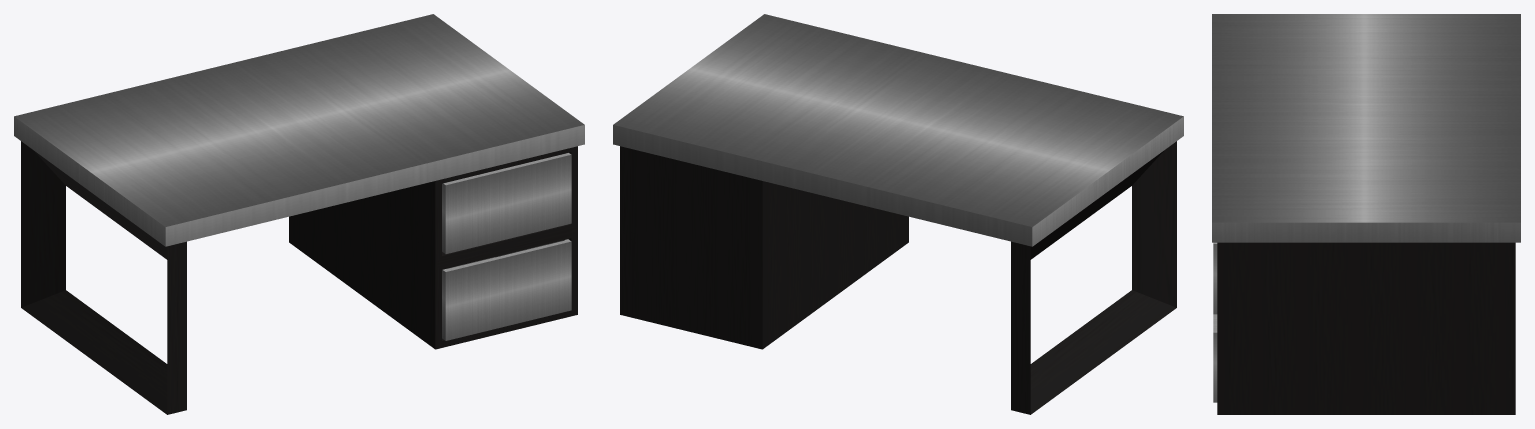
The model's file is Desk_W_Drawers_G.FBX.
3 renders of one model, left to right at view 1: azimuth 30°, elevation 25°; view 2: azimuth 150°, elevation 25°; view 3: azimuth 270°, elevation 25°, orthographic.
Parts seen in each view (by area): view 1: Desk_With_Drawers, Drawer_B, Drawer_A; view 2: Desk_With_Drawers; view 3: Desk_With_Drawers, Drawer_B, Drawer_A.
Part boxes in pixels (left/top/right/bottom): Desk_With_Drawers: left=14, top=14, right=584, bottom=414; Drawer_B: left=442, top=239, right=571, bottom=340; Drawer_A: left=442, top=153, right=571, bottom=253; Desk_With_Drawers: left=613, top=14, right=1183, bottom=414; Desk_With_Drawers: left=1212, top=14, right=1520, bottom=414; Drawer_B: left=1213, top=314, right=1217, bottom=402; Drawer_A: left=1213, top=242, right=1217, bottom=314.
Bounding box in the file's own units: 227 × 98.47 × 142.
